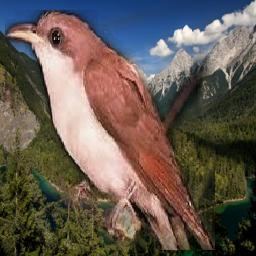Cuckoo: (5, 10, 215, 250)
